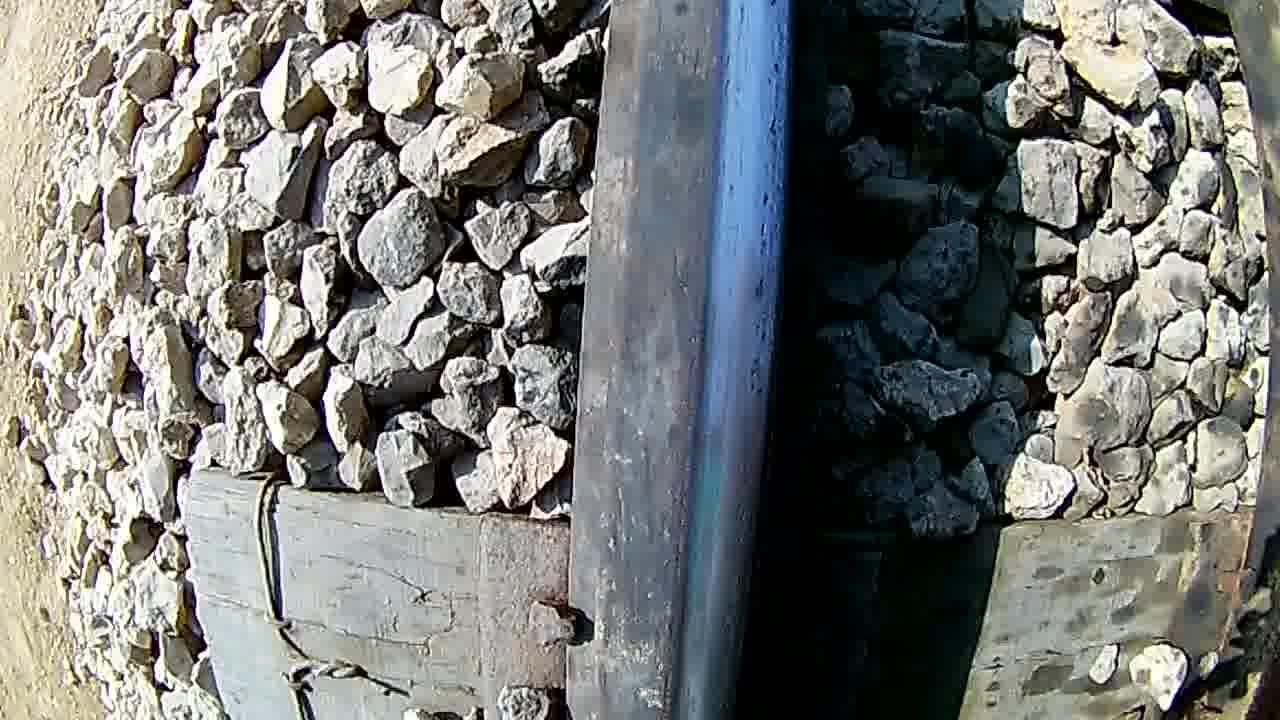crack: (594, 0, 791, 720)
